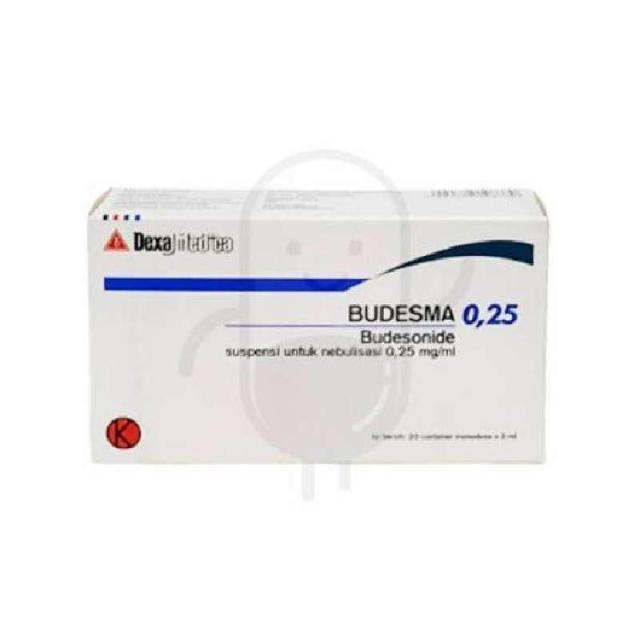drug-name: (346, 303, 455, 324)
